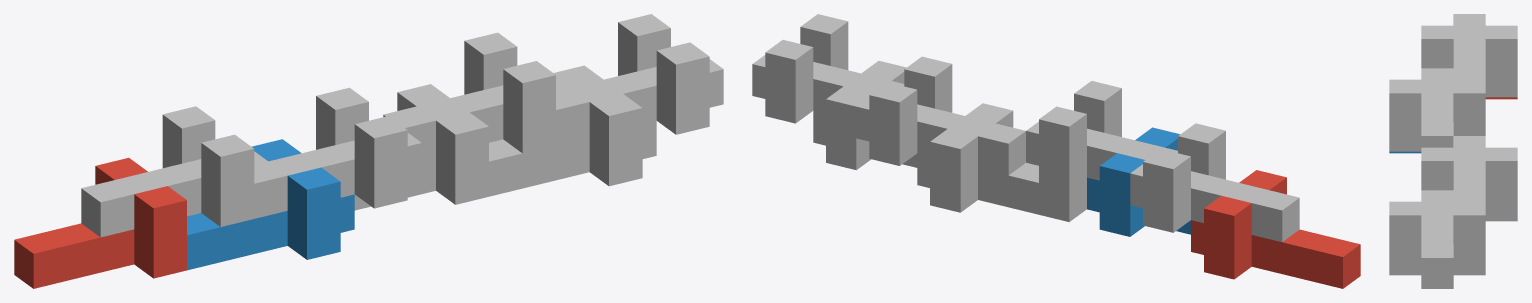
File: tiling.obj
3 views of the same model, side by side, from view 1: azimuth 30°, elevation 25°; view 2: azimuth 150°, elevation 25°; view 3: azimuth 270°, elevation 25° (orthographic). The views are drawn at different scales.
Visible parts, largest first — view 1: copy_1_domain_3, copy_1_domain_4, copy_1_domain_8, copy_1_domain_1, copy_1_domain_7, copy_1_domain_2, copy_1_domain_6, copy_1_domain_5; view 2: copy_1_domain_7, copy_1_domain_3, copy_1_domain_1, copy_1_domain_5, copy_1_domain_8, copy_1_domain_4, copy_1_domain_6, copy_1_domain_2; view 3: copy_1_domain_8, copy_1_domain_4, copy_1_domain_3, copy_1_domain_7, copy_1_domain_6, copy_1_domain_1, copy_1_domain_5, copy_1_domain_2.
Part boxes in pixels (x1=…): copy_1_domain_3: x1=81, y1=106, x2=267, y2=237; copy_1_domain_4: x1=254, y1=87, x2=421, y2=218; copy_1_domain_8: x1=556, y1=14, x2=723, y2=145; copy_1_domain_1: x1=14, y1=157, x2=186, y2=288; copy_1_domain_7: x1=383, y1=32, x2=569, y2=158; copy_1_domain_2: x1=187, y1=139, x2=354, y2=270; copy_1_domain_6: x1=489, y1=65, x2=656, y2=196; copy_1_domain_5: x1=354, y1=84, x2=488, y2=210; copy_1_domain_7: x1=856, y1=56, x2=1025, y2=175; copy_1_domain_3: x1=1130, y1=123, x2=1299, y2=241; copy_1_domain_1: x1=1191, y1=170, x2=1360, y2=288; copy_1_domain_5: x1=917, y1=103, x2=1086, y2=221; copy_1_domain_8: x1=752, y1=14, x2=904, y2=123; copy_1_domain_4: x1=1026, y1=81, x2=1177, y2=190; copy_1_domain_6: x1=813, y1=61, x2=917, y2=170; copy_1_domain_2: x1=1087, y1=127, x2=1190, y2=236; copy_1_domain_8: x1=1389, y1=190, x2=1485, y2=286; copy_1_domain_4: x1=1389, y1=68, x2=1485, y2=151; copy_1_domain_3: x1=1421, y1=14, x2=1517, y2=97; copy_1_domain_7: x1=1421, y1=136, x2=1517, y2=219; copy_1_domain_6: x1=1389, y1=273, x2=1485, y2=288; copy_1_domain_1: x1=1485, y1=97, x2=1517, y2=99; copy_1_domain_5: x1=1485, y1=219, x2=1517, y2=221; copy_1_domain_2: x1=1389, y1=151, x2=1421, y2=153.
Size of the model in its own units: 20 by 3 by 4.
